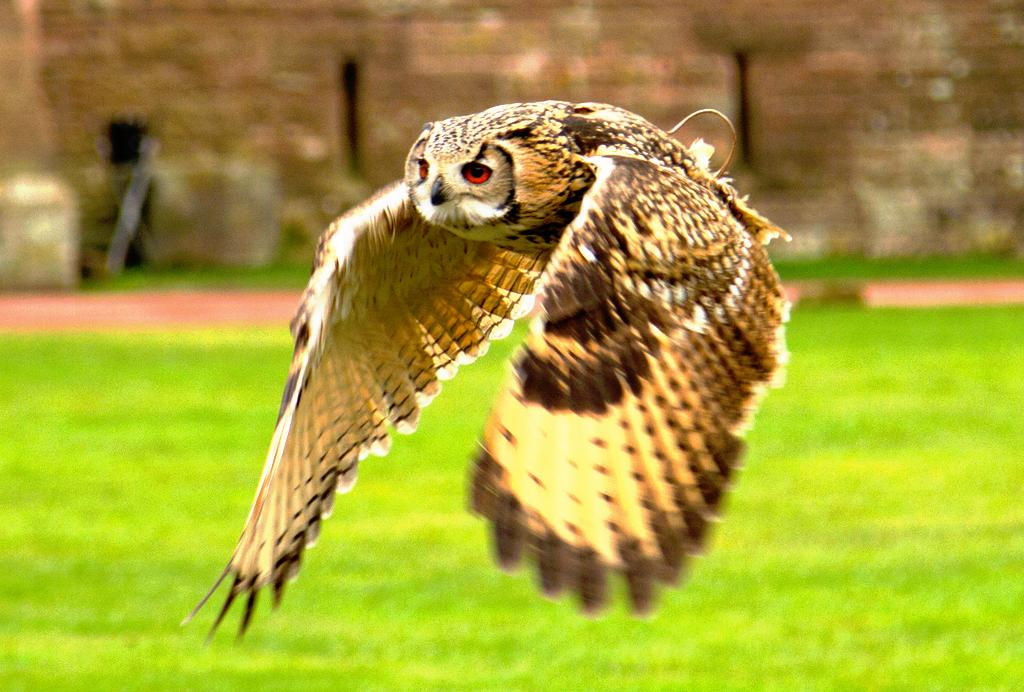Owl: (183, 96, 796, 643)
